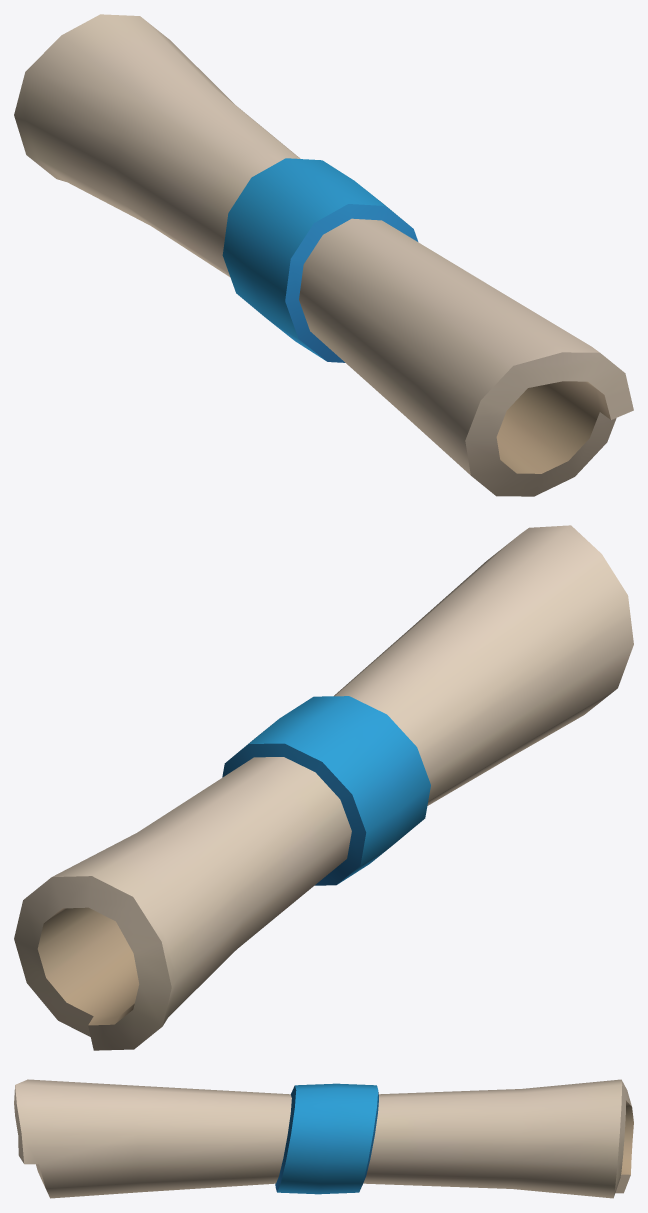
The model's file is map_rolled.glb.
The picture shows the model from 3 angles, top to bottom: view 1: azimuth 30°, elevation 25°; view 2: azimuth 150°, elevation 25°; view 3: azimuth 270°, elevation 25°; orthographic projection. The views are drawn at different scales.
Parts seen in each view (by area): view 1: map_rolled; view 2: map_rolled; view 3: map_rolled.
Part boxes in pixels (<box>): map_rolled: <box>14,14,633,496</box>; map_rolled: <box>14,525,633,1050</box>; map_rolled: <box>14,1079,633,1198</box>.
Bounding box in the file's own units: 0.2397 × 0.2381 × 1.22.
1 material, 1 textured.
